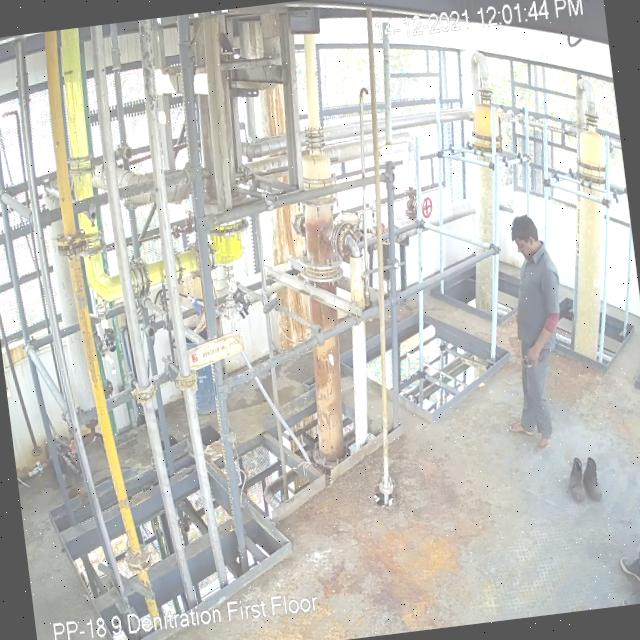boots: (582, 456, 604, 502), (566, 458, 585, 500)
no-boots: (504, 412, 538, 442), (534, 431, 554, 449)
